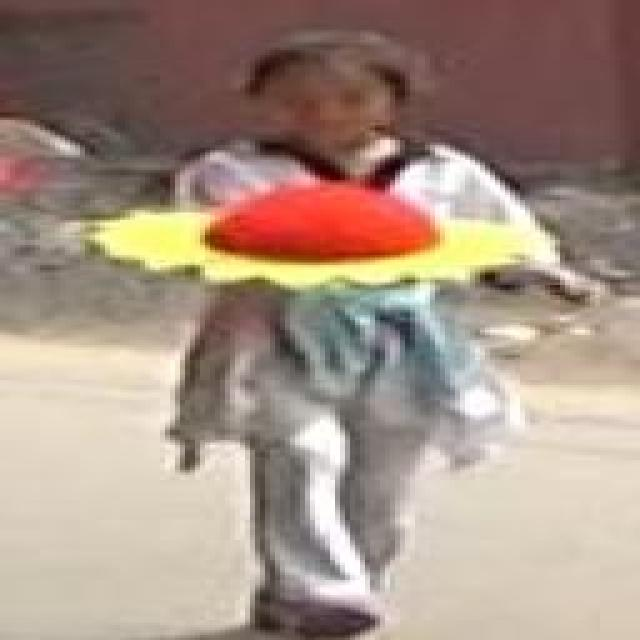child: (144, 47, 560, 640)
